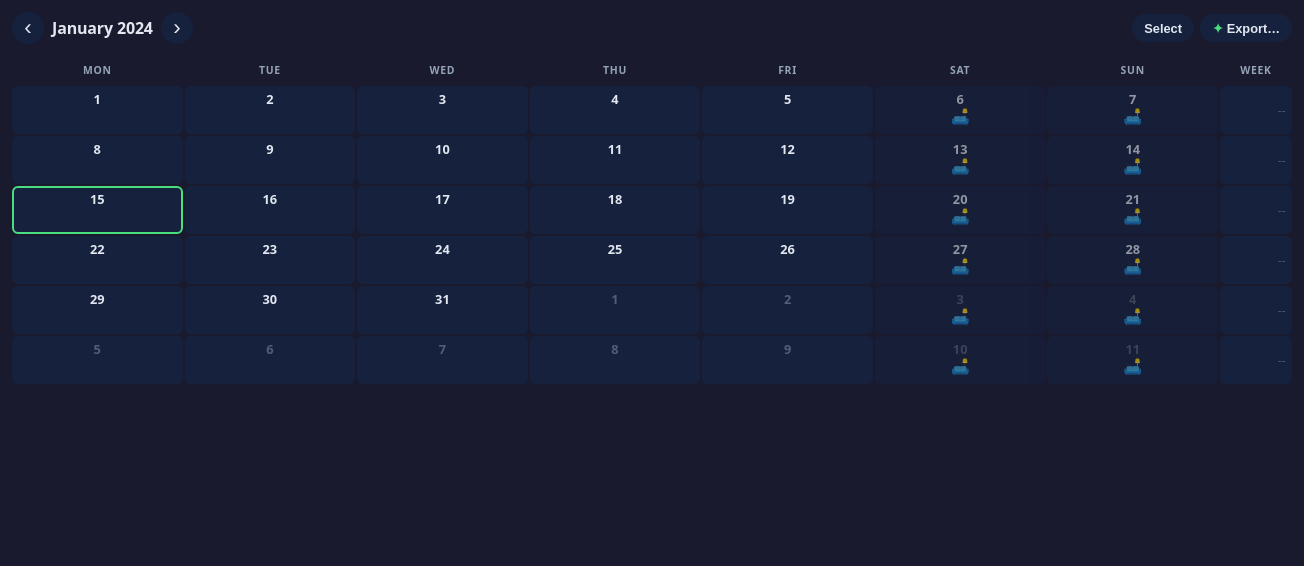
Test: CalendarView › pro range export › shows an error message when the export fails
Click the button titled "Export a custom date range as CSV, PDF, or ICS" at (1246, 28), box [1200,14,1292,42]
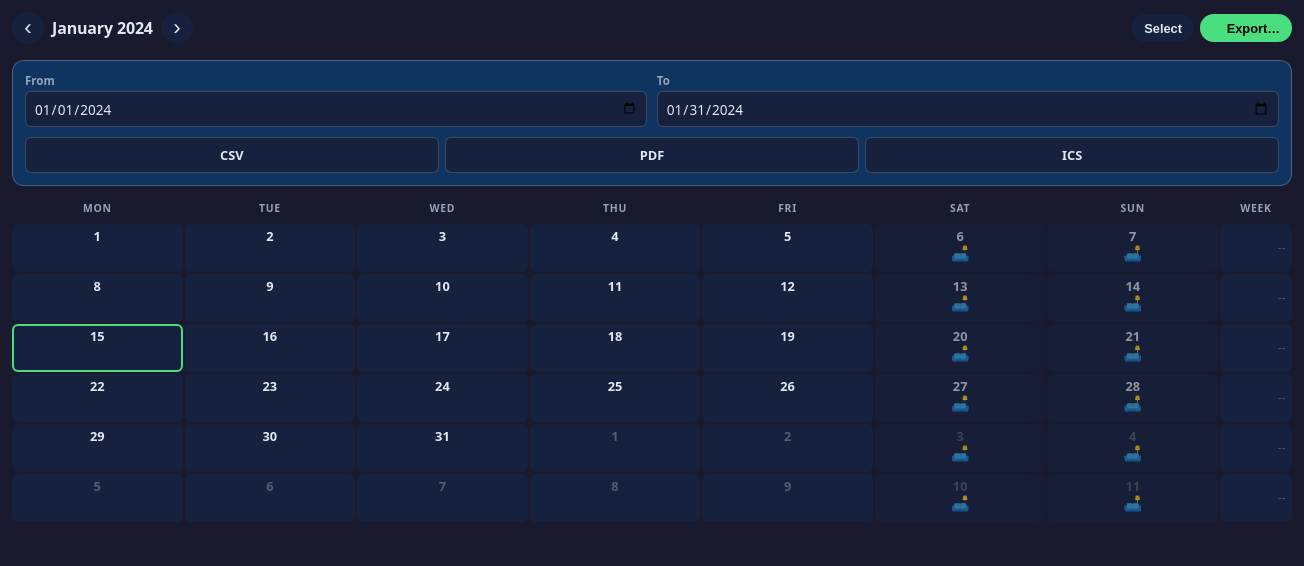
Click the button "PDF" at (652, 155), box [445,137,859,173]
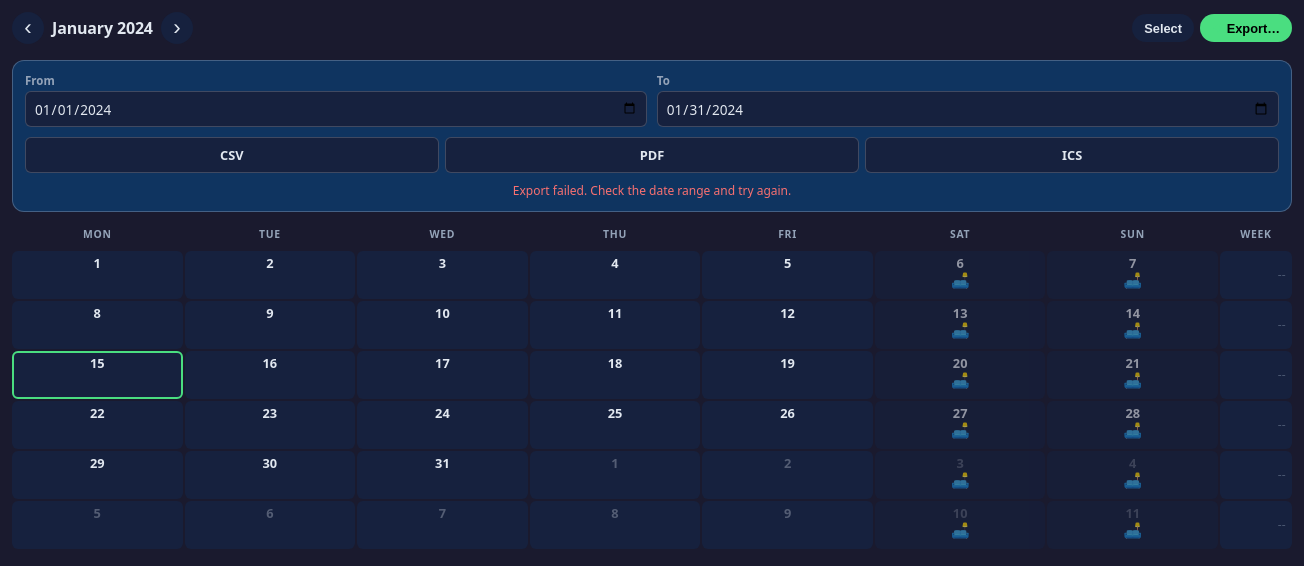
Expected: the text "Export failed. Check the date range and try again." is shown, [513,182,791,199]
